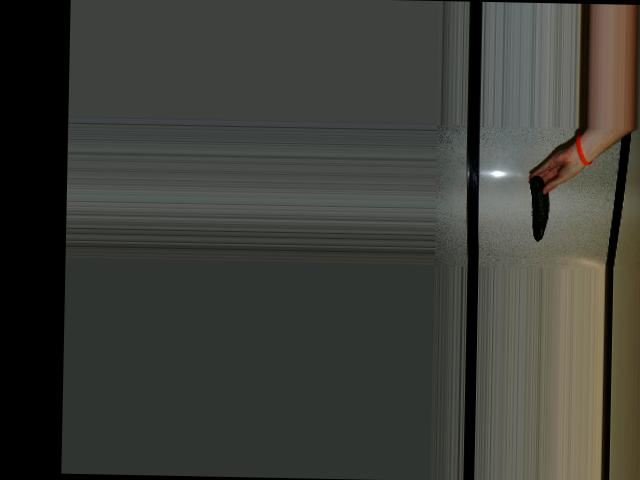cucumber: (528, 175, 548, 242)
